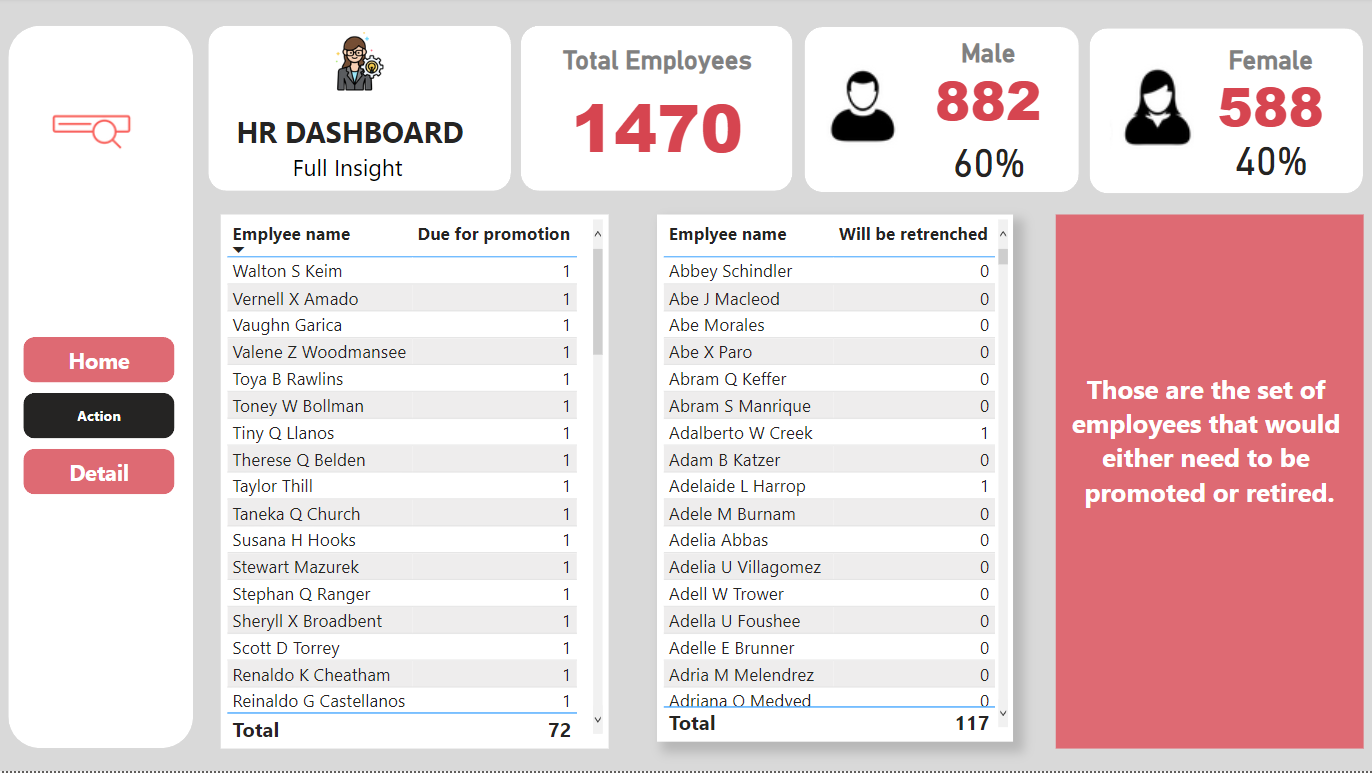

What the dashboard file says about the page in this screenshot:
{"tool":"powerbi","page":{"name":"Action","canvas":[1280,720],"ordinal":1},"visuals":[{"type":"shape","box":[10.5,26.7,172.1,672.1],"z":0},{"type":"shape","box":[196.5,27.2,281.2,153.8],"z":1000},{"type":"shape","box":[1016.3,29.1,254.7,153.5],"z":2000},{"type":"shape","box":[751.5,28.4,255,153.8],"z":3000},{"type":"shape","box":[487.8,27.2,252.5,153.8],"z":4000},{"type":"textbox","box":[217.8,102.2,236.2,46.2],"z":5000},{"type":"textbox","box":[270.3,138.4,127.5,38.8],"z":6000},{"type":"image","box":[286.5,28.4,102.5,77.5],"z":7000},{"type":"card","title":"Total Employees ","fields":{"Values":["New Measures.Total Emp"]},"box":[509,44.7,210,120],"z":8000},{"type":"card","title":"Male","fields":{"Values":["New Measures.Male"]},"box":[847.8,38.4,148.8,83.8],"z":9000},{"type":"card","title":"Female","fields":{"Values":["New Measures.Female"]},"box":[1110.5,44.2,148.8,83.7],"z":10000},{"type":"card","fields":{"Values":["New Measures.% male"]},"box":[880.3,123.4,85,55],"z":11000},{"type":"card","fields":{"Values":["New Measures.% female"]},"box":[1142.8,122.2,85,55],"z":12000},{"type":"image","box":[754,47.2,100,100],"z":13000},{"type":"image","box":[1027.8,55.9,92.5,91.2],"z":14000},{"type":"tableEx","fields":{"Values":["data csv Retrenchment.Emplyee name","New Measures.Due for promotion"]},"box":[208.1,202.3,360.5,496.5],"z":15000},{"type":"tableEx","fields":{"Values":["data csv Retrenchment.Emplyee name","New Measures.Will be retrenched"]},"box":[614,202.3,331.4,490.7],"z":16000},{"type":"textbox","box":[984.9,202.3,286,496.5],"z":17000},{"type":"pageNavigator","box":[24.4,316.3,141.9,146.5],"z":18000},{"type":"image","box":[19.8,57,151.2,132.6],"z":18001}]}

Visuals, with their boxes in screenshot pixels (x1, y1, x2, y2), scaled from the page's 1280x720 canvas onto the 1372x773 screenshot:
shape: rect(11, 29, 196, 750)
shape: rect(211, 29, 512, 194)
shape: rect(1089, 31, 1362, 196)
shape: rect(806, 30, 1079, 196)
shape: rect(523, 29, 794, 194)
textbox: rect(233, 110, 487, 159)
textbox: rect(290, 149, 426, 190)
image: rect(307, 30, 417, 114)
"Total Employees " card: rect(546, 48, 771, 177)
"Male" card: rect(909, 41, 1068, 131)
"Female" card: rect(1190, 47, 1350, 137)
card - New Measures.% male: rect(944, 132, 1035, 192)
card - New Measures.% female: rect(1225, 131, 1316, 190)
image: rect(808, 51, 915, 158)
image: rect(1102, 60, 1201, 158)
tableEx - data csv Retrenchment.Emplyee name x New Measures.Due for promotion: rect(223, 217, 609, 750)
tableEx - data csv Retrenchment.Emplyee name x New Measures.Will be retrenched: rect(658, 217, 1013, 744)
textbox: rect(1056, 217, 1362, 750)
pageNavigator: rect(26, 340, 178, 497)
image: rect(21, 61, 183, 204)
